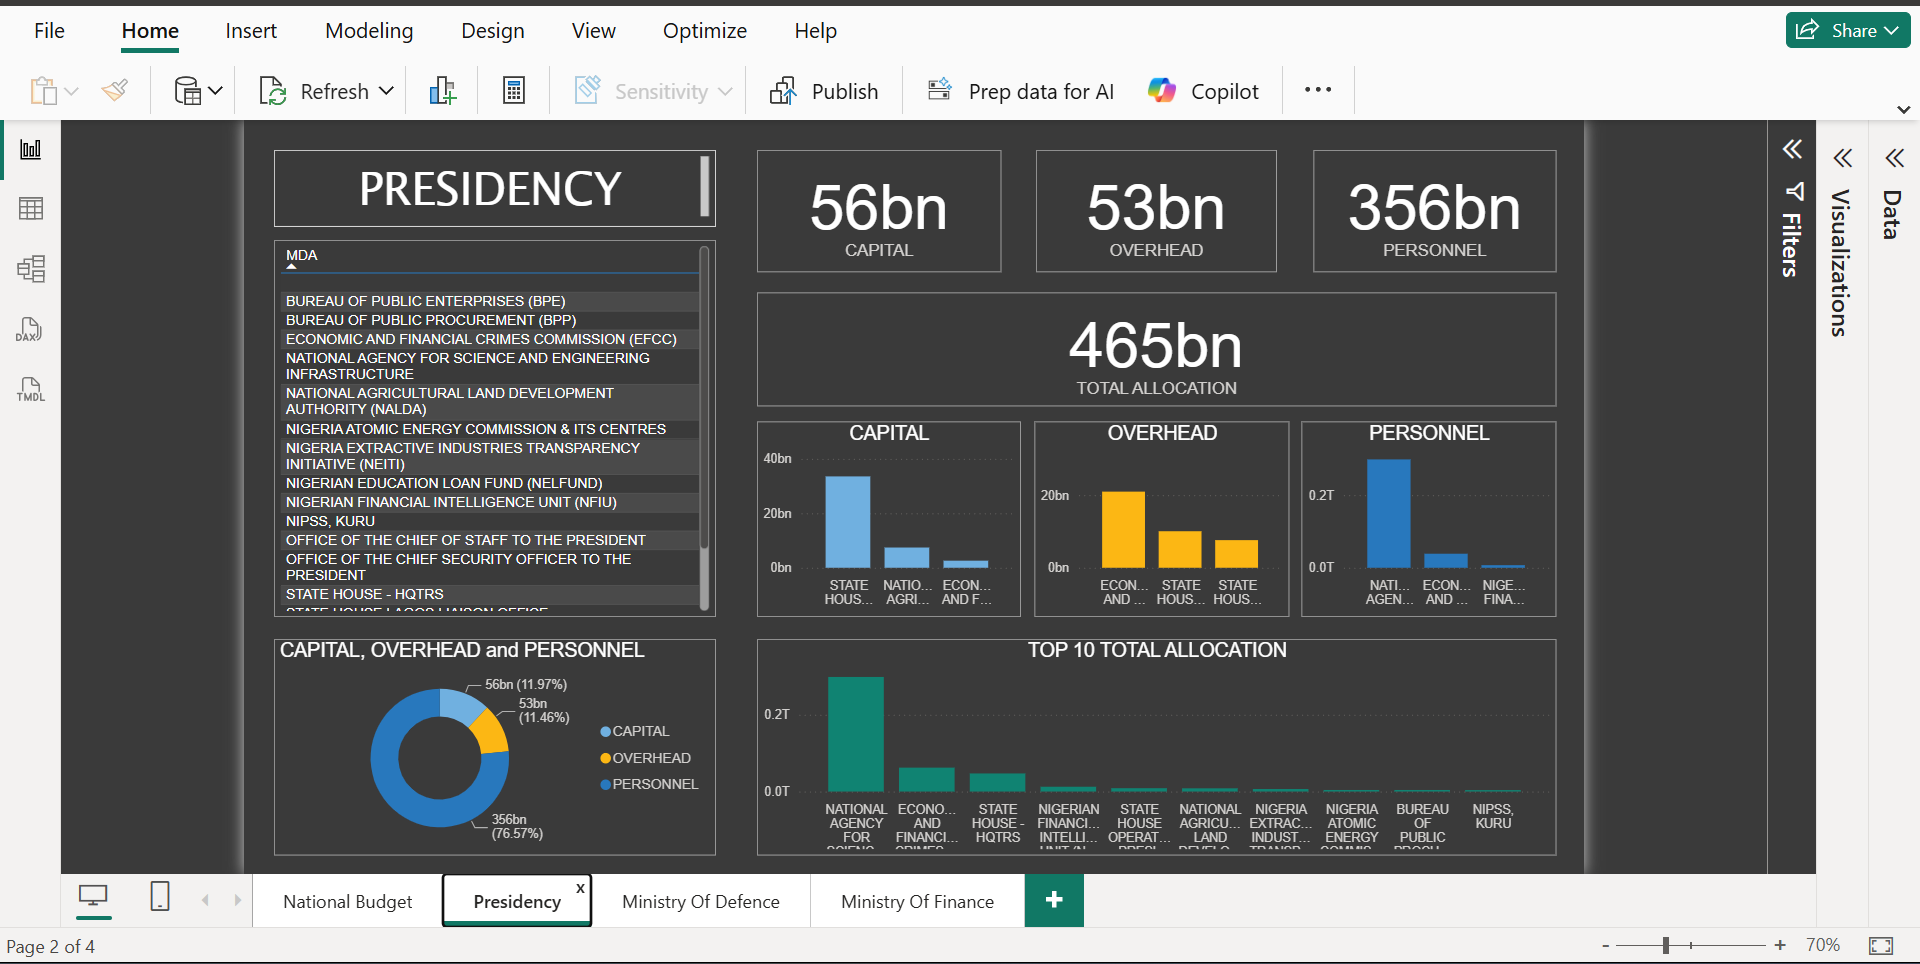

The page's visual inventory and layout, read from the dashboard file:
{"tool":"powerbi","page":{"name":"Presidency","canvas":[1280,720],"ordinal":1},"visuals":[{"type":"tableEx","fields":{"Values":["Presidency.MDA"]},"box":[28.3,115,421.7,360],"z":0},{"type":"donutChart","fields":{"Y":["Sum(Presidency.CAPITAL)","Sum(Presidency.OVERHEAD)","Sum(Presidency.PERSONNEL)"]},"box":[28.3,495,421.7,206.7],"z":1000},{"type":"card","fields":{"Values":["Sum(Presidency.CAPITAL)"]},"box":[490,28.3,233.3,116.7],"z":2000},{"type":"card","fields":{"Values":["Sum(Presidency.OVERHEAD)"]},"box":[756.7,28.3,230,116.7],"z":3000},{"type":"card","fields":{"Values":["Sum(Presidency.PERSONNEL)"]},"box":[1021.7,28.3,231.7,116.7],"z":4000},{"type":"card","fields":{"Values":["Sum(Presidency.TOTAL ALLOCATION)"]},"box":[490,165,763.3,108.3],"z":5000},{"type":"columnChart","title":"TOP 10 TOTAL ALLOCATION","fields":{"Y":["Sum(Presidency.TOTAL ALLOCATION)"],"Category":["Presidency.MDA"]},"box":[490,495,763.3,206.7],"z":6000},{"type":"clusteredColumnChart","title":"CAPITAL","fields":{"Y":["Sum(Presidency.CAPITAL)"],"Category":["Presidency.MDA"]},"box":[490,288.3,251.7,186.7],"z":7000},{"type":"clusteredColumnChart","title":"PERSONNEL","fields":{"Y":["Sum(Presidency.PERSONNEL)"],"Category":["Presidency.MDA"]},"box":[1010,288.3,243.3,186.7],"z":8000},{"type":"clusteredColumnChart","title":"OVERHEAD","fields":{"Y":["Sum(Presidency.OVERHEAD)"],"Category":["Presidency.MDA"]},"box":[755,288.3,243.3,186.7],"z":9000},{"type":"textbox","box":[28.3,28.3,421.7,73.3],"z":10000}]}

Visuals, with their boxes on the page's 1280x720 design canvas (x1, y1, x2, y2). These are canvas units, not pixel positions in the 1920x964 screenshot, which may show the page scaled, cropped or inside an application window:
tableEx - Presidency.MDA: rect(28, 115, 450, 475)
donutChart - Sum(Presidency.CAPITAL) x Sum(Presidency.OVERHEAD): rect(28, 495, 450, 702)
card - Sum(Presidency.CAPITAL): rect(490, 28, 723, 145)
card - Sum(Presidency.OVERHEAD): rect(757, 28, 987, 145)
card - Sum(Presidency.PERSONNEL): rect(1022, 28, 1253, 145)
card - Sum(Presidency.TOTAL ALLOCATION): rect(490, 165, 1253, 273)
"TOP 10 TOTAL ALLOCATION" columnChart: rect(490, 495, 1253, 702)
"CAPITAL" clusteredColumnChart: rect(490, 288, 742, 475)
"PERSONNEL" clusteredColumnChart: rect(1010, 288, 1253, 475)
"OVERHEAD" clusteredColumnChart: rect(755, 288, 998, 475)
textbox: rect(28, 28, 450, 102)
